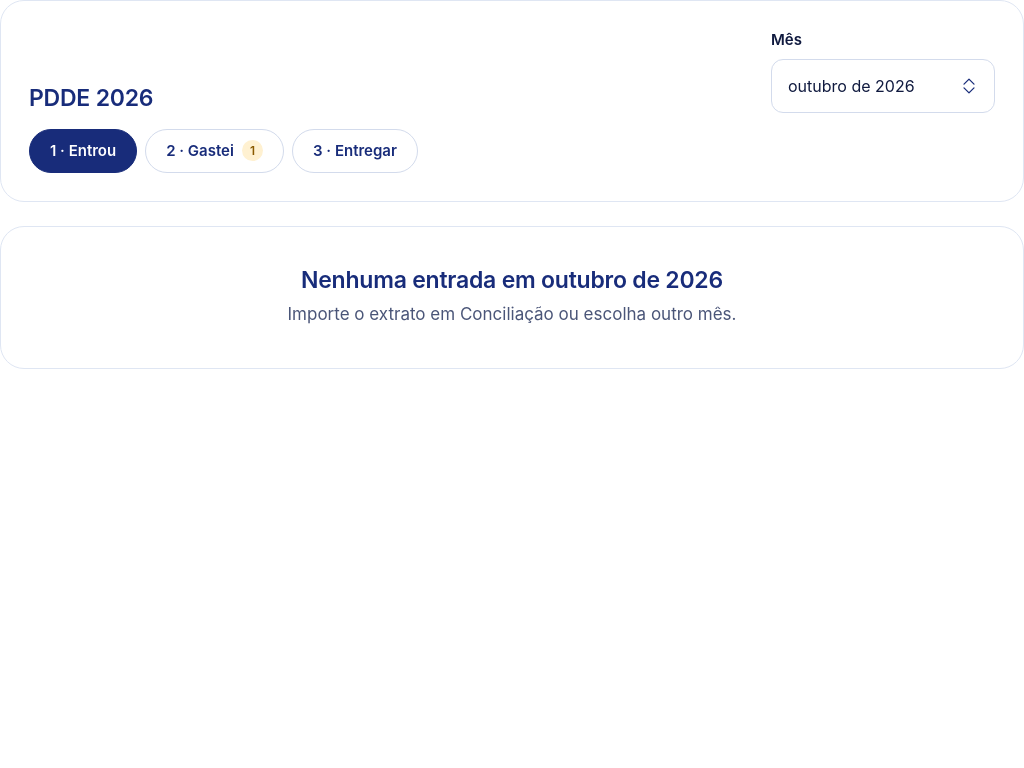
Test: PddeArea › sem item escolhido, a compra nao salva
Click the tab "2 · Gastei 1" at (215, 151), box 145,129 -> 284,173
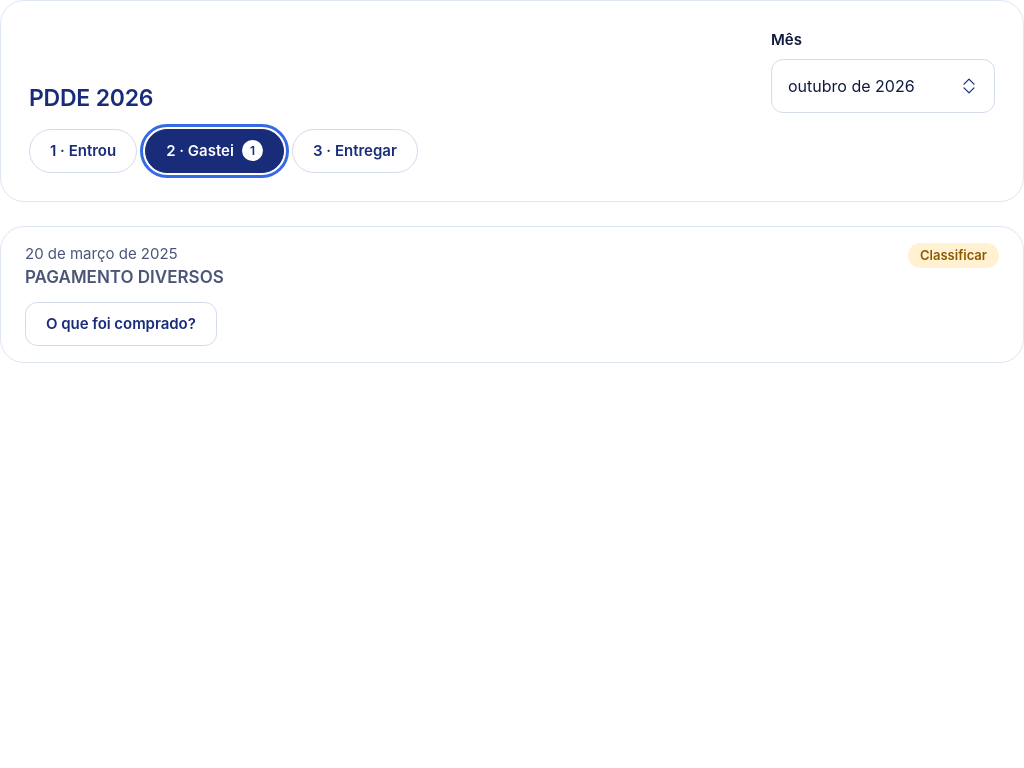
Click the button "O que foi comprado?" at (121, 324), box 25,302 -> 217,346
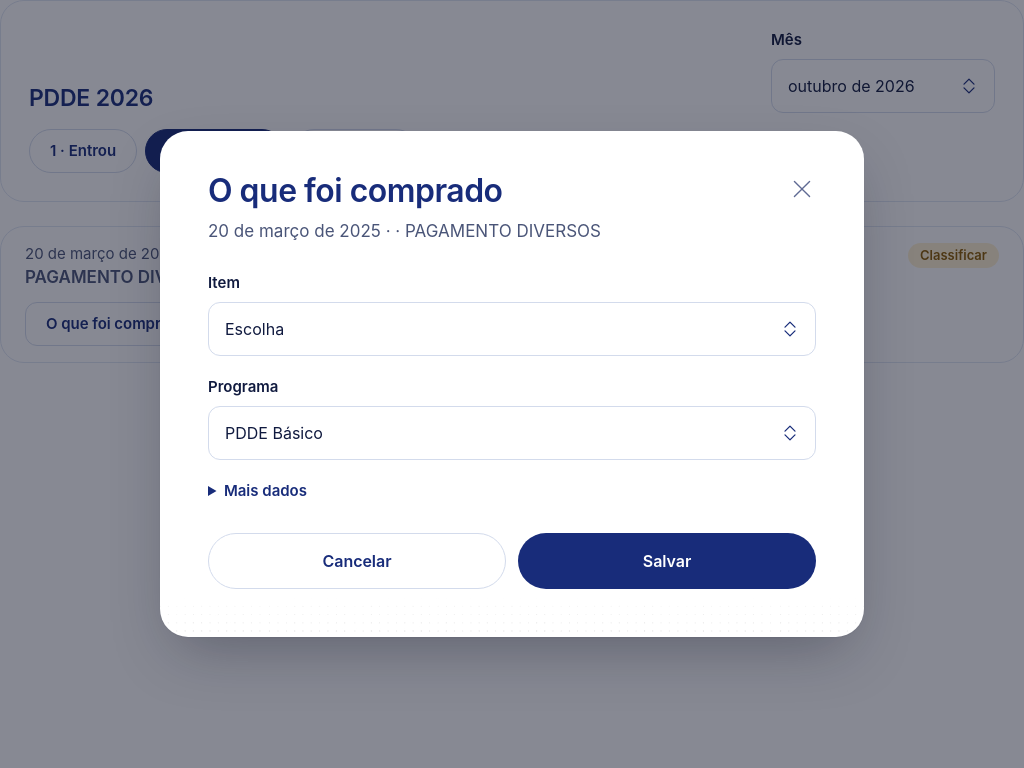
Click the button "Salvar" at (667, 561), box 518,533 -> 816,589
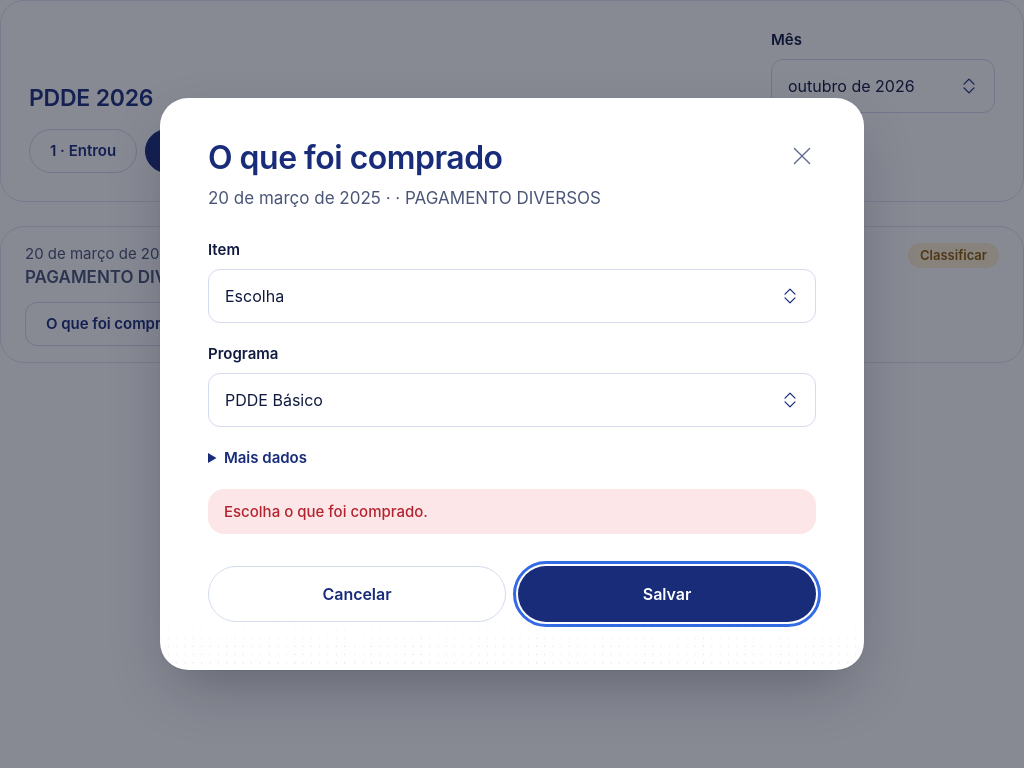
Expected: the message reads "Escolha o que foi comprado.", 224,502 -> 428,520
